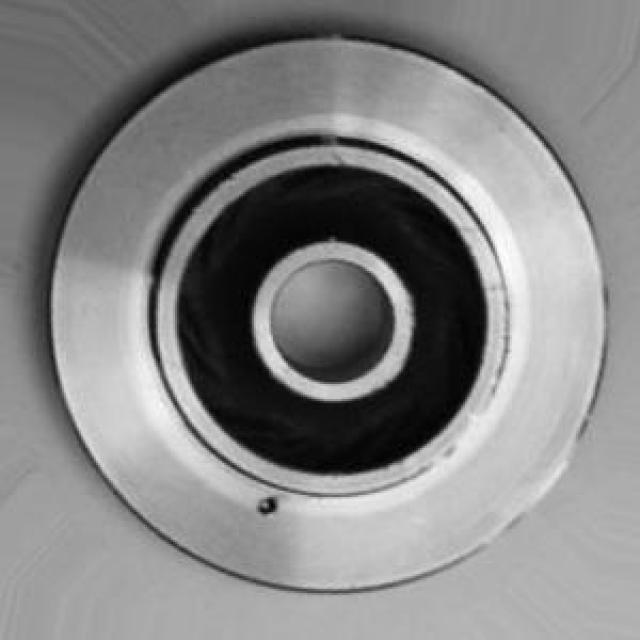Defect: (254, 484, 279, 526)
